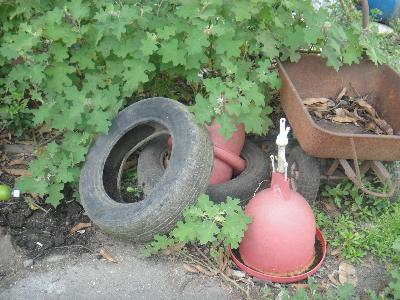box: (272, 49, 400, 165)
plate: (226, 223, 329, 289)
tire: (77, 96, 216, 246)
